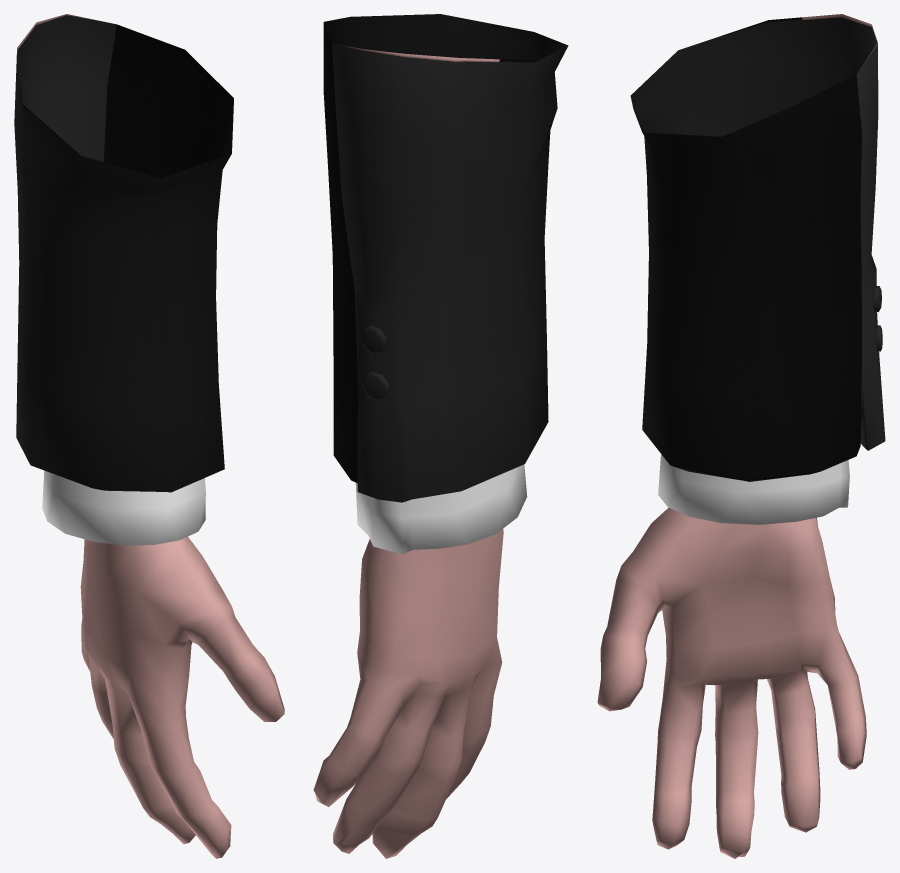
The model's file is armdownright.fbx.
The picture shows the model from 3 angles, left to right: view 1: azimuth 30°, elevation 25°; view 2: azimuth 150°, elevation 25°; view 3: azimuth 270°, elevation 25°; orthographic projection. The views are drawn at different scales.
Visible parts, largest first — view 1: armdownright; view 2: armdownright; view 3: armdownright.
Boxes of the visible parts, x1,y1,x2,y2 form: armdownright: (14,14,284,858); armdownright: (313,14,568,858); armdownright: (597,14,885,858).
Size of the model in its own units: 7.35 by 29.35 by 9.64.
